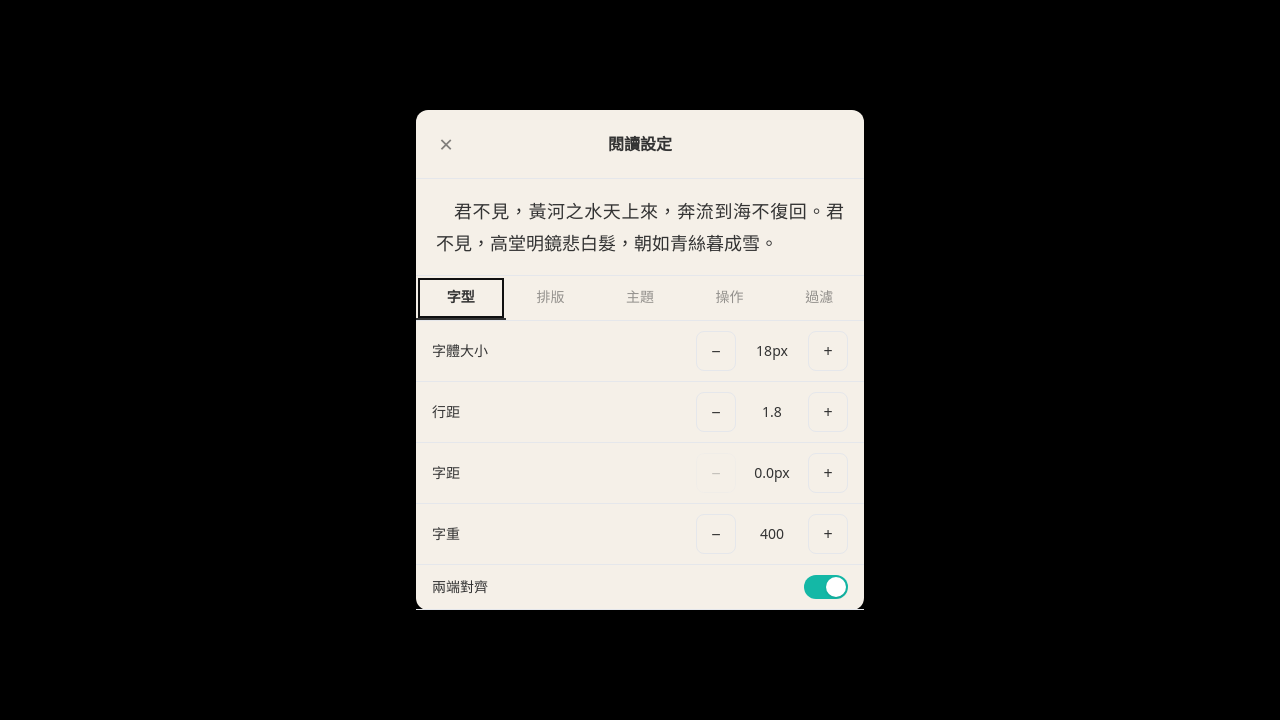
it: ReaderSettingsPanel › switches to 操作 tab and exposes 工具列 + 點擊模式
Click the tab with test id "settings-tab-control" at x=730, y=298, box [685, 276, 774, 320]
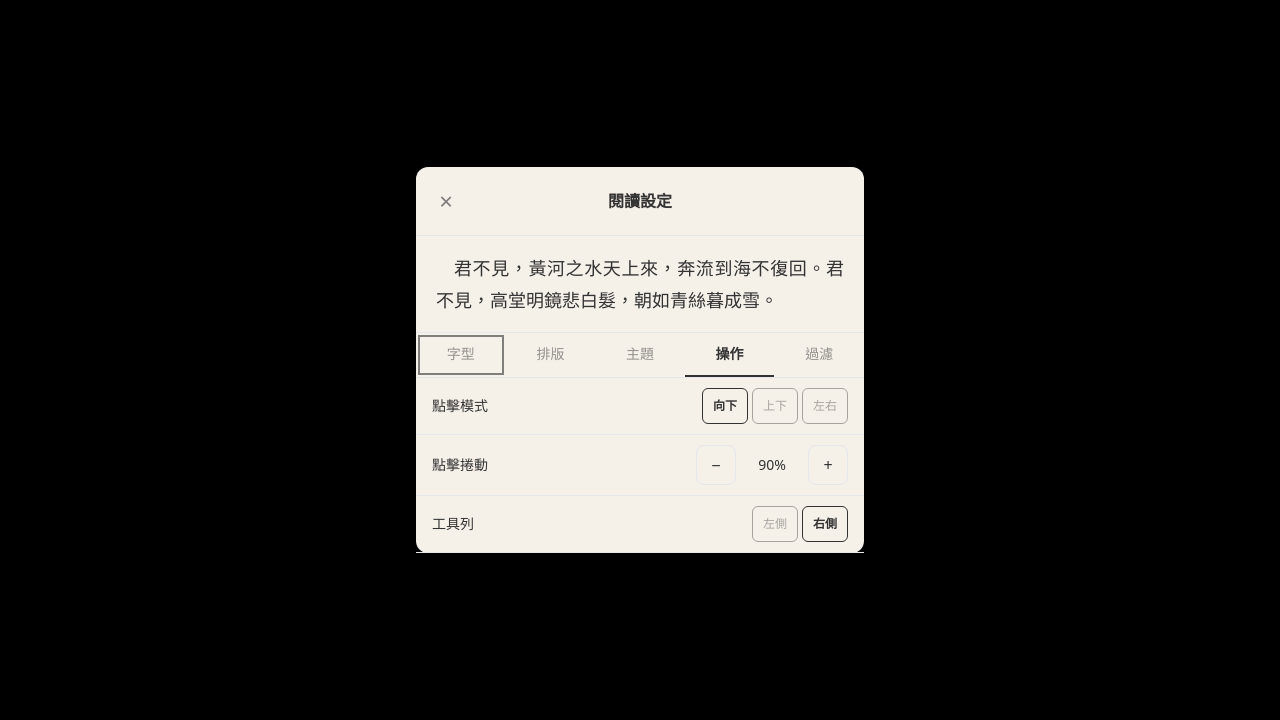
Result: the text "工具列" is shown at [432, 514, 474, 533]
Result: the text "點擊模式" is shown at [432, 396, 488, 415]
